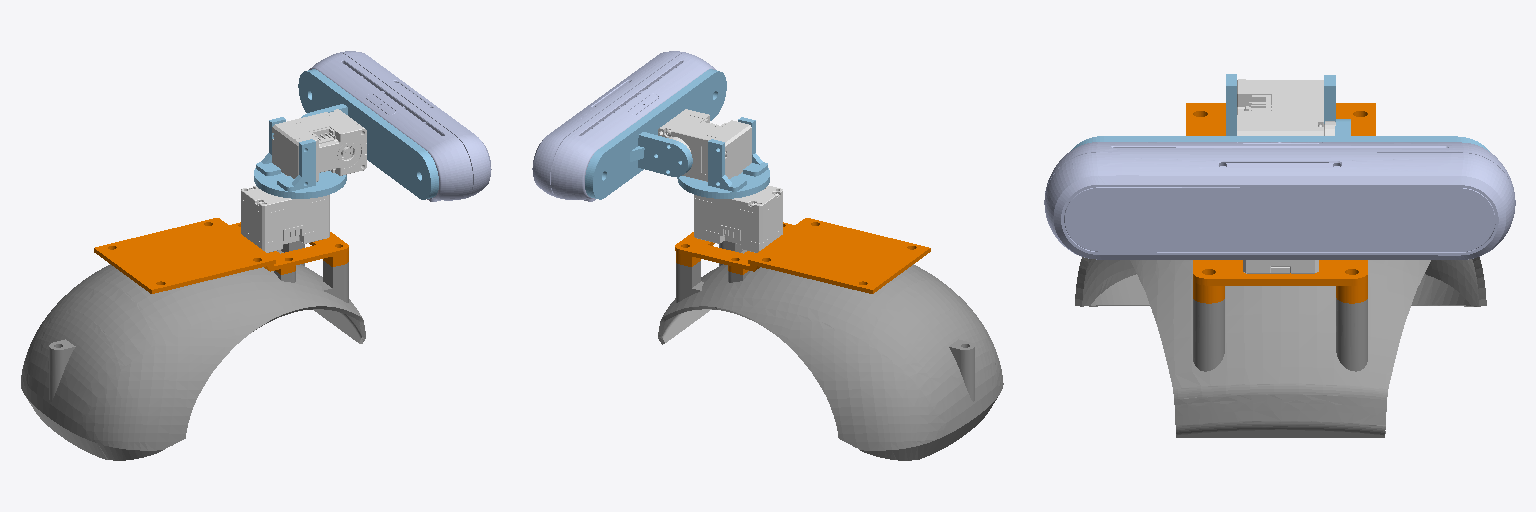
robot.urdf — camera_mount:
<?xml version="1.0" ?>
<!-- Generated using onshape-to-robot -->
<!-- Onshape document_id: ea88995b7abc6ca6639d5fde -->
<robot name="camera_mount">
  <!-- Link camera_mount_base_link -->
  <link name="camera_mount_base_link">
    <inertial>
      <origin xyz="0.0195225 -5.01832e-07 -0.00280466" rpy="0 0 0"/>
      <mass value="0.0125893"/>
      <inertia ixx="2.85959e-06" ixy="2.39e-10" ixz="7.3616e-07" iyy="1.08803e-05" iyz="-1.5e-11" izz="1.35768e-05"/>
    </inertial>
    <!-- Part camera_mount_base_link -->
    <visual>
      <origin xyz="0.000851685 0 -0.535218" rpy="0 -0 0"/>
      <geometry>
        <mesh filename="package://robot_description/camera_mount/assets/camera_mount_base_link.stl"/>
      </geometry>
      <material name="camera_mount_base_link_material">
        <color rgba="0.647059 0.647059 0.647059 1"/>
      </material>
    </visual>
    <collision>
      <origin xyz="0.000851685 0 -0.535218" rpy="0 -0 0"/>
      <geometry>
        <mesh filename="package://robot_description/camera_mount/assets/camera_mount_base_link.stl"/>
      </geometry>
    </collision>
    <!-- Part dc15_a01_case_f_dummy -->
    <visual>
      <origin xyz="0.0574997 0 0.0155" rpy="0 0 -1.5708"/>
      <geometry>
        <mesh filename="package://robot_description/camera_mount/assets/dc15_a01_case_f_dummy.stl"/>
      </geometry>
      <material name="dc15_a01_case_f_dummy_material">
        <color rgba="0.917647 0.917647 0.917647 1"/>
      </material>
    </visual>
    <collision>
      <origin xyz="0.0574997 0 0.0155" rpy="0 0 -1.5708"/>
      <geometry>
        <mesh filename="package://robot_description/camera_mount/assets/dc15_a01_case_f_dummy.stl"/>
      </geometry>
    </collision>
    <!-- Part base_mount -->
    <visual>
      <origin xyz="0.000851685 0 -0.535218" rpy="0 -0 -0"/>
      <geometry>
        <mesh filename="package://robot_description/camera_mount/assets/base_mount.stl"/>
      </geometry>
      <material name="base_mount_material">
        <color rgba="0.972549 0.529412 0.00392157 1"/>
      </material>
    </visual>
    <collision>
      <origin xyz="0.000851685 0 -0.535218" rpy="0 -0 -0"/>
      <geometry>
        <mesh filename="package://robot_description/camera_mount/assets/base_mount.stl"/>
      </geometry>
    </collision>
  </link>
  <!-- Frame base_link (dummy link + fixed joint) -->
  <link name="base_link">
    <origin xyz="0 0 0" rpy="0 -0 0"/>
    <inertial>
      <origin xyz="0 0 0" rpy="0 0 0"/>
      <mass value="1e-9"/>
      <inertia ixx="0" ixy="0" ixz="0" iyy="0" iyz="0" izz="0"/>
    </inertial>
  </link>
  <joint name="base_link_frame" type="fixed">
    <origin xyz="0 0 0" rpy="0 -0 -0"/>
    <parent link="camera_mount_base_link"/>
    <child link="base_link"/>
    <axis xyz="0 0 0"/>
  </joint>
  <!-- Link camera_mount_yaw_link -->
  <link name="camera_mount_yaw_link">
    <inertial>
      <origin xyz="-4.64212e-06 0.00142735 -0.00376553" rpy="0 0 0"/>
      <mass value="0.00610061"/>
      <inertia ixx="6.93909e-07" ixy="-5.31e-10" ixz="-1.38e-10" iyy="8.57171e-07" iyz="4.2567e-08" izz="1.21949e-06"/>
    </inertial>
    <!-- Part dc15_a01_case_f_dummy_2 -->
    <visual>
      <origin xyz="-0.00794467 -0.0170259 -0.013" rpy="3.13834 1.5708 0"/>
      <geometry>
        <mesh filename="package://robot_description/camera_mount/assets/dc15_a01_case_f_dummy.stl"/>
      </geometry>
      <material name="dc15_a01_case_f_dummy_2_material">
        <color rgba="0.917647 0.917647 0.917647 1"/>
      </material>
    </visual>
    <collision>
      <origin xyz="-0.00794467 -0.0170259 -0.013" rpy="3.13834 1.5708 0"/>
      <geometry>
        <mesh filename="package://robot_description/camera_mount/assets/dc15_a01_case_f_dummy.stl"/>
      </geometry>
    </collision>
    <!-- Part camera_mount_yaw_link -->
    <visual>
      <origin xyz="0 0 -0" rpy="-3.14159 0 0.00325227"/>
      <geometry>
        <mesh filename="package://robot_description/camera_mount/assets/camera_mount_yaw_link.stl"/>
      </geometry>
      <material name="camera_mount_yaw_link_material">
        <color rgba="0.615686 0.811765 0.929412 1"/>
      </material>
    </visual>
    <collision>
      <origin xyz="0 0 -0" rpy="-3.14159 0 0.00325227"/>
      <geometry>
        <mesh filename="package://robot_description/camera_mount/assets/camera_mount_yaw_link.stl"/>
      </geometry>
    </collision>
  </link>
  <!-- Link camera_mount_pitch_link -->
  <link name="camera_mount_pitch_link">
    <inertial>
      <origin xyz="0.0153805 0 0.0124131" rpy="0 0 0"/>
      <mass value="0.013697"/>
      <inertia ixx="1.29622e-05" ixy="-0" ixz="-3.20967e-07" iyy="1.28138e-05" iyz="-0" izz="8.57555e-07"/>
    </inertial>
    <!-- Part d455 -->
    <visual>
      <origin xyz="0.0449975 0 0.0145" rpy="-0 1.5708 0"/>
      <geometry>
        <mesh filename="package://robot_description/camera_mount/assets/d455.stl"/>
      </geometry>
      <material name="d455_material">
        <color rgba="0.792157 0.819608 0.933333 1"/>
      </material>
    </visual>
    <collision>
      <origin xyz="0.0449975 0 0.0145" rpy="-0 1.5708 0"/>
      <geometry>
        <mesh filename="package://robot_description/camera_mount/assets/d455.stl"/>
      </geometry>
    </collision>
    <!-- Part camera_mount_pitch_link -->
    <visual>
      <origin xyz="0.0189975 0 0.0145" rpy="-1.5708 -1.5708 0"/>
      <geometry>
        <mesh filename="package://robot_description/camera_mount/assets/camera_mount_pitch_link.stl"/>
      </geometry>
      <material name="camera_mount_pitch_link_material">
        <color rgba="0.615686 0.811765 0.929412 1"/>
      </material>
    </visual>
    <collision>
      <origin xyz="0.0189975 0 0.0145" rpy="-1.5708 -1.5708 0"/>
      <geometry>
        <mesh filename="package://robot_description/camera_mount/assets/camera_mount_pitch_link.stl"/>
      </geometry>
    </collision>
  </link>
  <!-- Joint from camera_mount_yaw_link to camera_mount_pitch_link -->
  <joint name="pitch" type="revolute">
    <origin xyz="-0.0144446 -0.0170471 -0.013" rpy="-1.5708 0.0247295 -1.56754"/>
    <parent link="camera_mount_yaw_link"/>
    <child link="camera_mount_pitch_link"/>
    <axis xyz="0 0 1"/>
    <limit effort="10" velocity="10" lower="-3.141592653589793" upper="3.141592653589793"/>
  </joint>
  <!-- Joint from camera_mount_base_link to camera_mount_yaw_link -->
  <joint name="yaw" type="revolute">
    <origin xyz="0.0574997 0 0.022" rpy="-3.14159 0 -1.5708"/>
    <parent link="camera_mount_base_link"/>
    <child link="camera_mount_yaw_link"/>
    <axis xyz="0 0 1"/>
    <limit effort="10" velocity="10" lower="-3.141592653589793" upper="3.141592653589793"/>
  </joint>
</robot>

--- Render facts (derived) ---
The picture shows the robot from 3 angles, left to right: view 1: azimuth 30°, elevation 25°; view 2: azimuth 150°, elevation 25°; view 3: azimuth 270°, elevation 25°; orthographic projection.
Robot: camera_mount — 4 links, 3 joints (2 revolute, 1 fixed); root link camera_mount_base_link; default pose: all joints at 0.
Links seen in each view (by area): view 1: camera_mount_base_link, camera_mount_pitch_link, camera_mount_yaw_link; view 2: camera_mount_base_link, camera_mount_pitch_link, camera_mount_yaw_link; view 3: camera_mount_pitch_link, camera_mount_base_link, camera_mount_yaw_link.
Link boxes in pixels (box(x1,y1,x2,y2)): camera_mount_base_link: box(21, 186, 365, 460); camera_mount_pitch_link: box(298, 51, 491, 201); camera_mount_yaw_link: box(254, 109, 366, 198); camera_mount_base_link: box(658, 186, 1003, 460); camera_mount_pitch_link: box(532, 51, 726, 201); camera_mount_yaw_link: box(658, 109, 769, 198); camera_mount_pitch_link: box(1044, 119, 1515, 259); camera_mount_base_link: box(1075, 103, 1486, 437); camera_mount_yaw_link: box(1226, 74, 1335, 135).
Bounding box of the posed robot: 0.1877 × 0.124 × 0.1227 m (x, y, z).
Meshes: 6 distinct files referenced, 7 mesh visuals loaded (6 binary STL).
